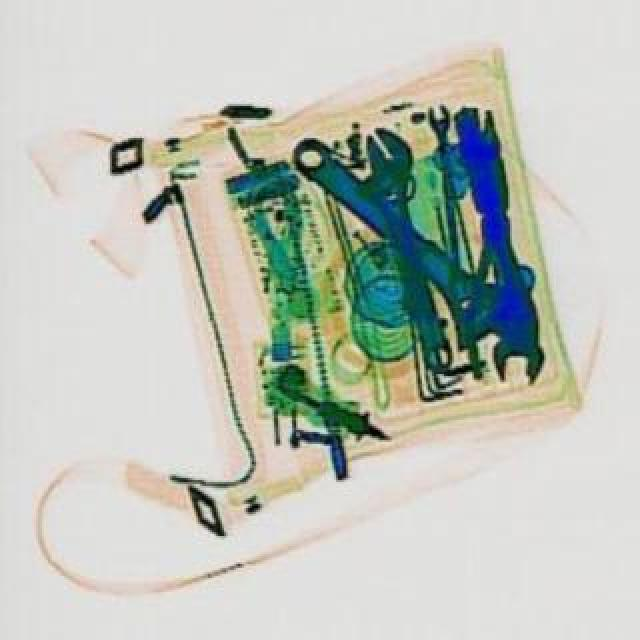scissors: (262, 116, 554, 384), (440, 100, 548, 386), (356, 118, 468, 362), (420, 100, 460, 188)
